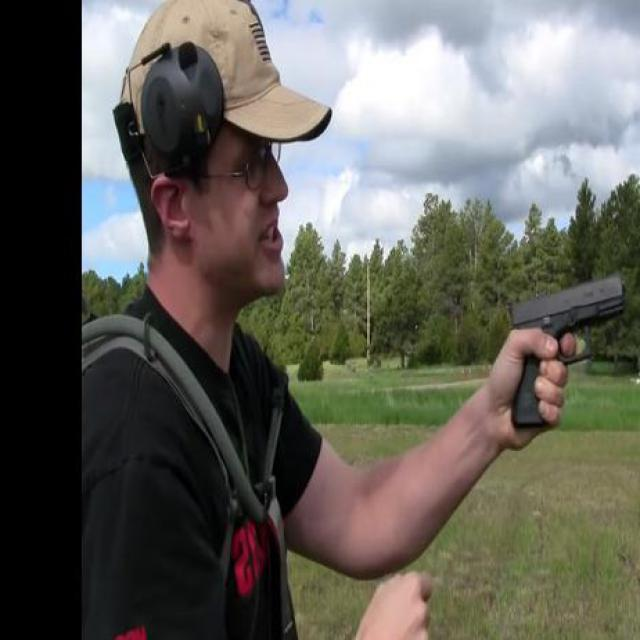Gun: (503, 271, 629, 431)
